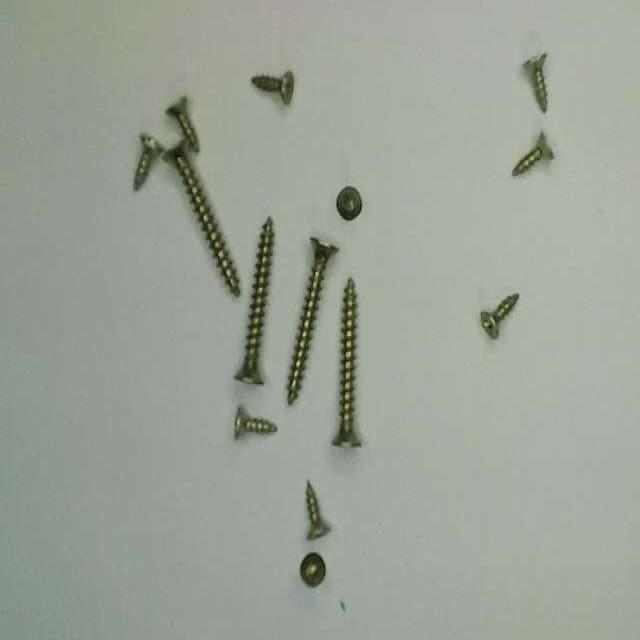Parafuso: (160, 136, 234, 291), (288, 236, 338, 401), (235, 215, 275, 382), (332, 272, 361, 441), (512, 129, 553, 173), (166, 91, 198, 146), (481, 295, 519, 339), (130, 129, 160, 184), (525, 54, 548, 113), (253, 68, 294, 101), (235, 405, 276, 437), (309, 480, 332, 536), (339, 190, 363, 222), (302, 555, 326, 587)
